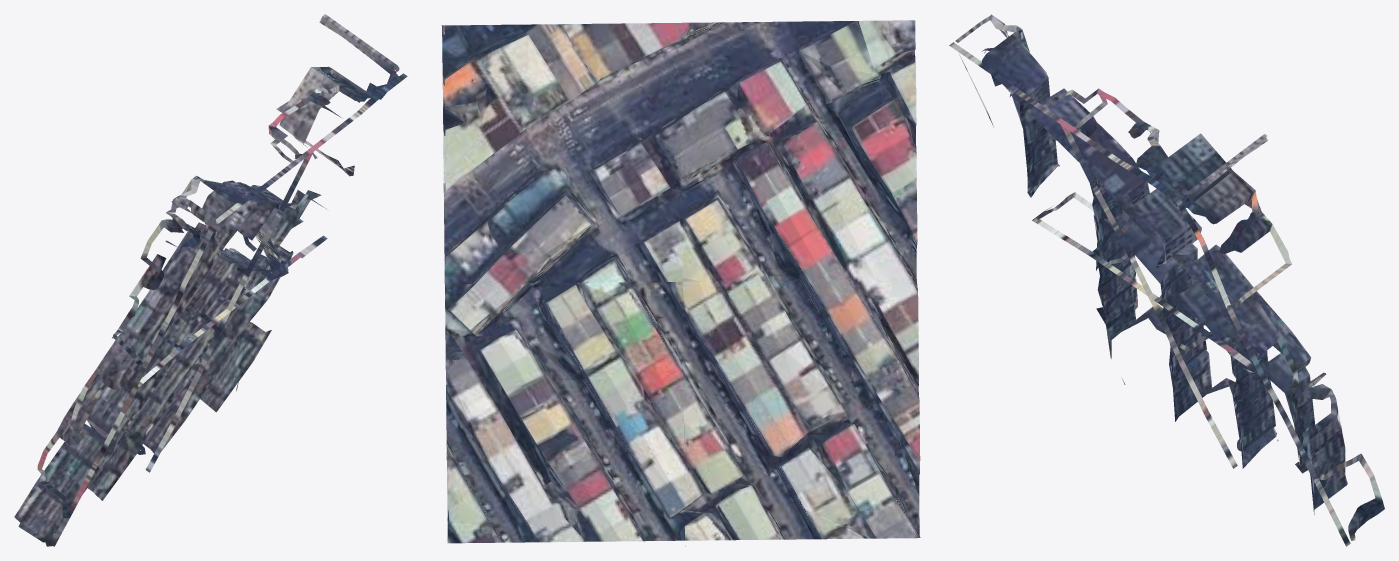
3 views of the same model, side by side, from view 1: azimuth 30°, elevation 25°; view 2: azimuth 150°, elevation 25°; view 3: azimuth 270°, elevation 25° (orthographic). The views are drawn at different scales.
Bounding box in the file's own units: 160 × 154 × 140.
1 material, 1 textured.
